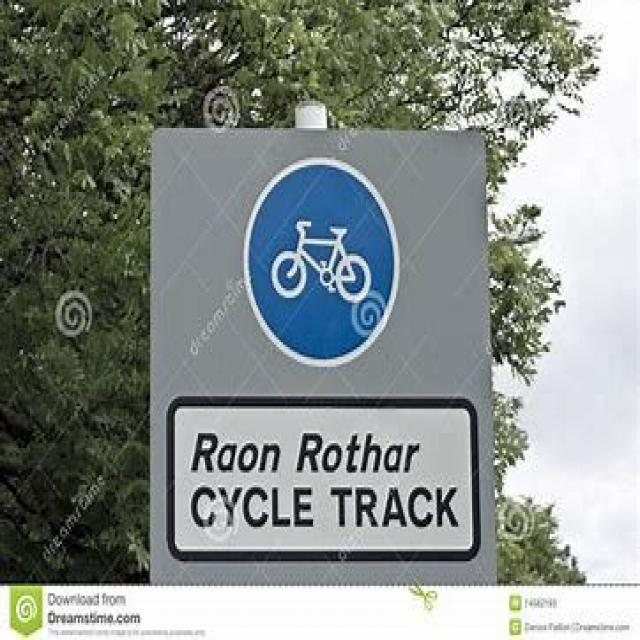COMPULSARY_CYCLE_TRACK: (239, 150, 401, 364)
